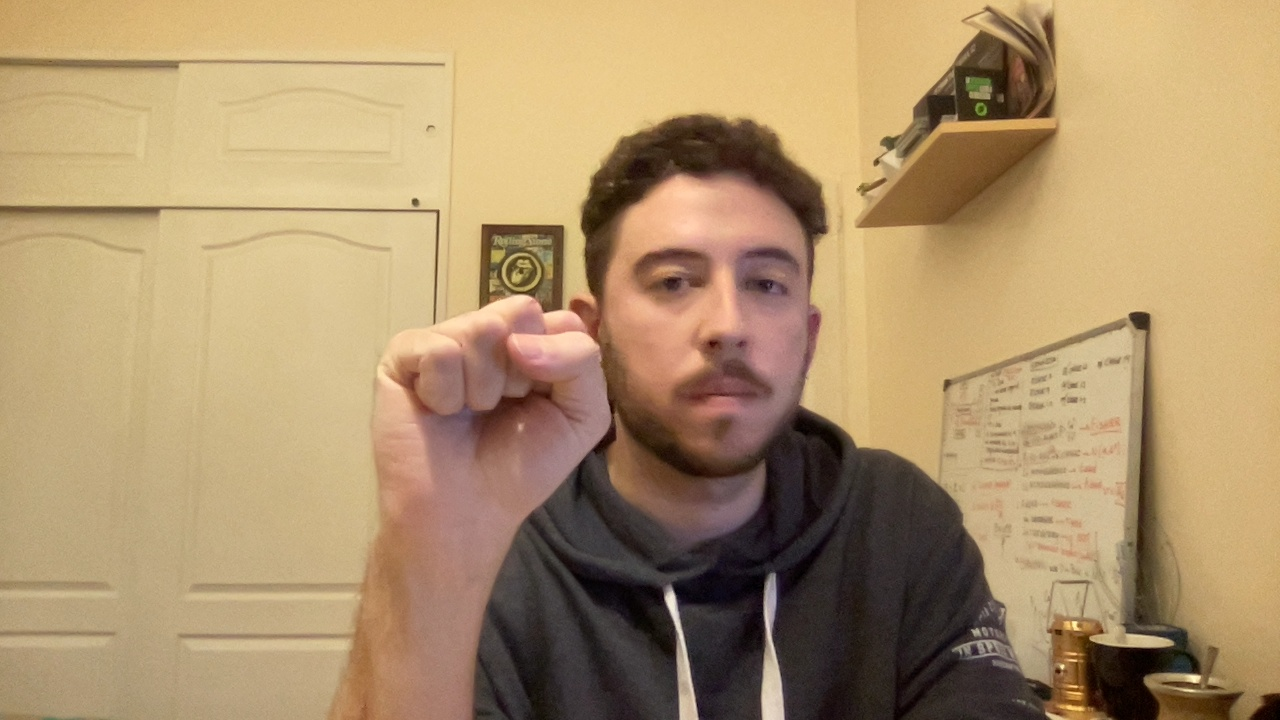cerrado: (322, 280, 624, 561)
